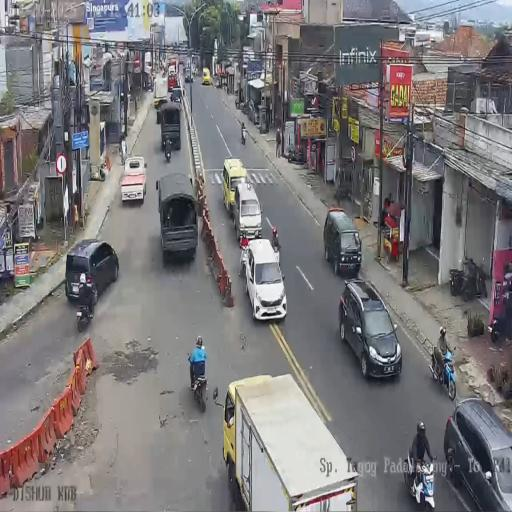car: (442, 398, 512, 510), (340, 279, 402, 379), (157, 171, 198, 261), (241, 239, 285, 322), (325, 208, 362, 276), (234, 182, 261, 241), (120, 155, 146, 204), (243, 99, 258, 125), (202, 67, 211, 85), (184, 67, 194, 83)
motorcycle: (403, 448, 436, 511), (430, 340, 456, 398), (490, 288, 512, 344), (189, 348, 208, 408), (75, 283, 97, 331), (285, 143, 305, 164), (194, 66, 197, 78)
truck: (226, 373, 349, 511), (160, 104, 180, 156), (168, 73, 178, 92), (169, 56, 178, 74)
